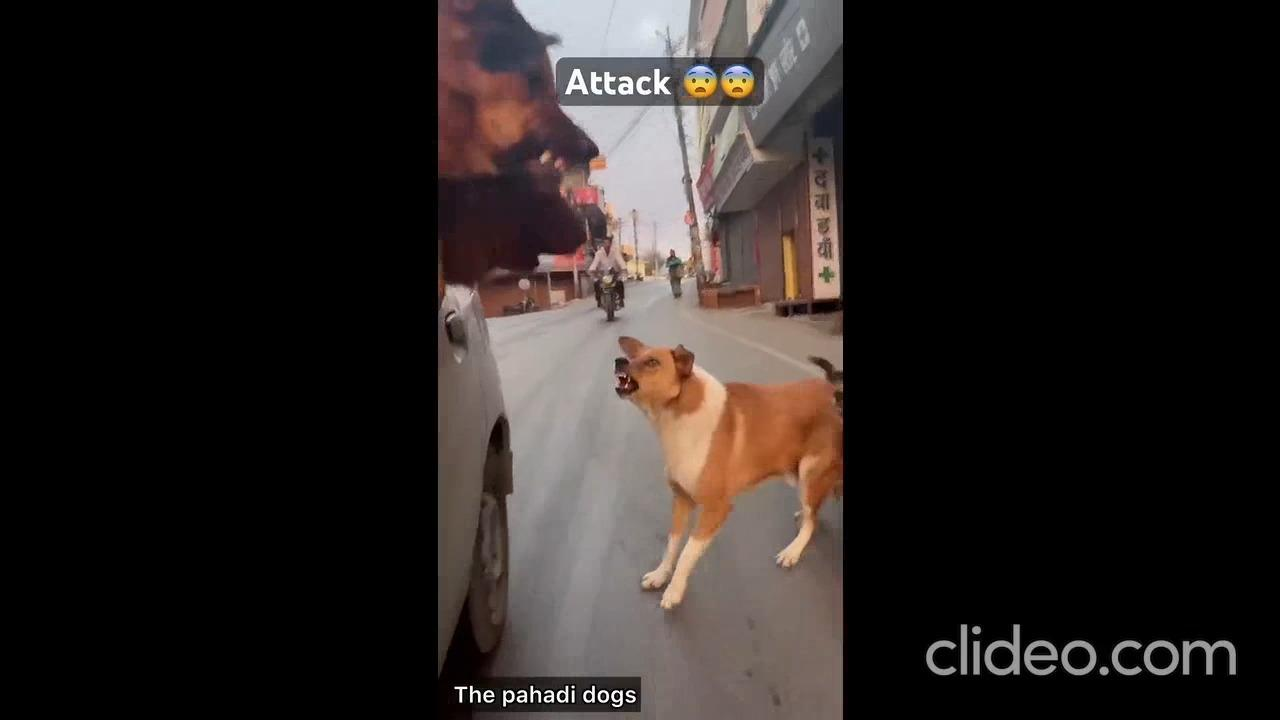dog: (600, 320, 845, 597)
